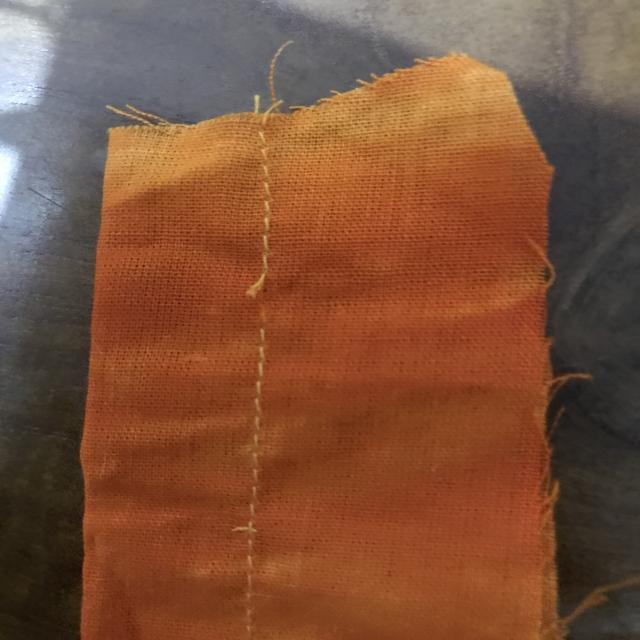broken: (218, 259, 283, 336)
good: (224, 366, 282, 481)
